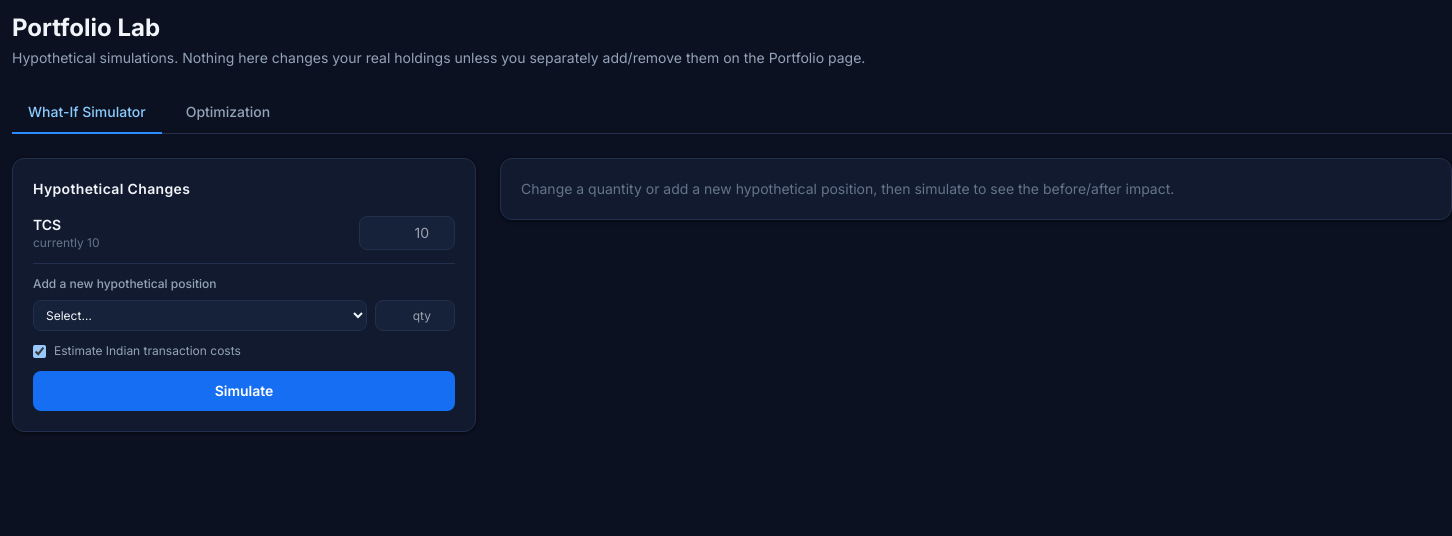
Test case: PortfolioLabPage - What-If Simulator tab › submits a changed quantity and renders the before/after result
expect the text "TCS" is shown: met, box x1=33 y1=216 x2=61 y2=233
Type "15" into the number field with placeholder "10" at (407, 233), box x1=359 y1=216 x2=455 y2=250
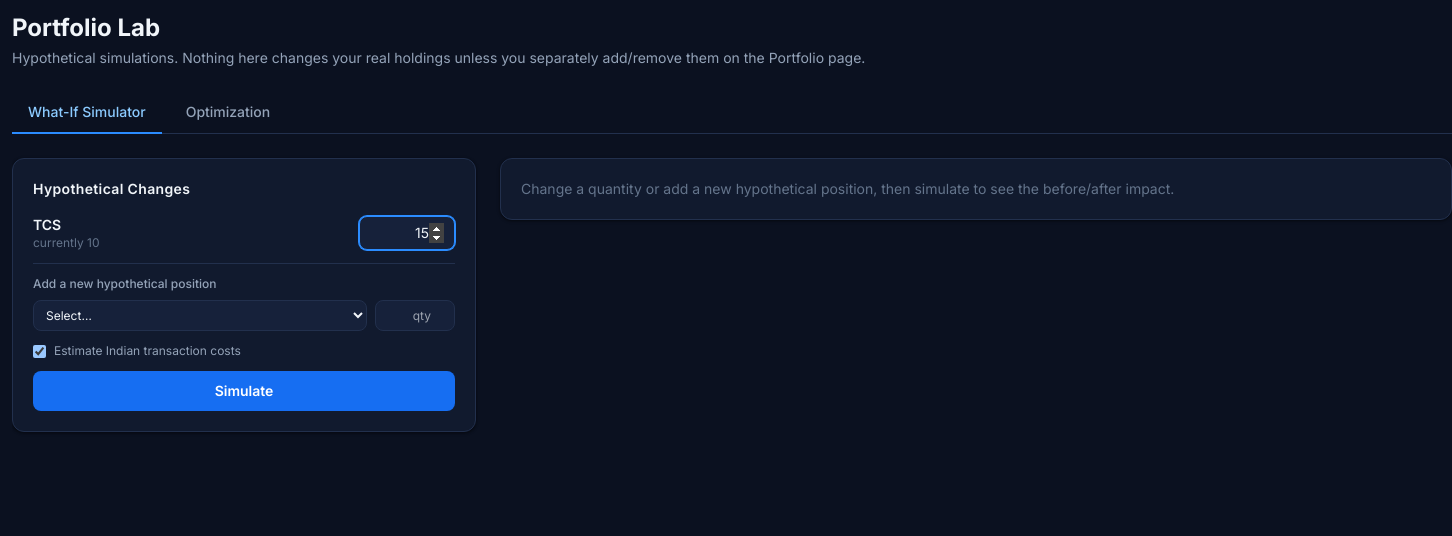
Click the button "Simulate" at (244, 391), box x1=33 y1=371 x2=455 y2=411
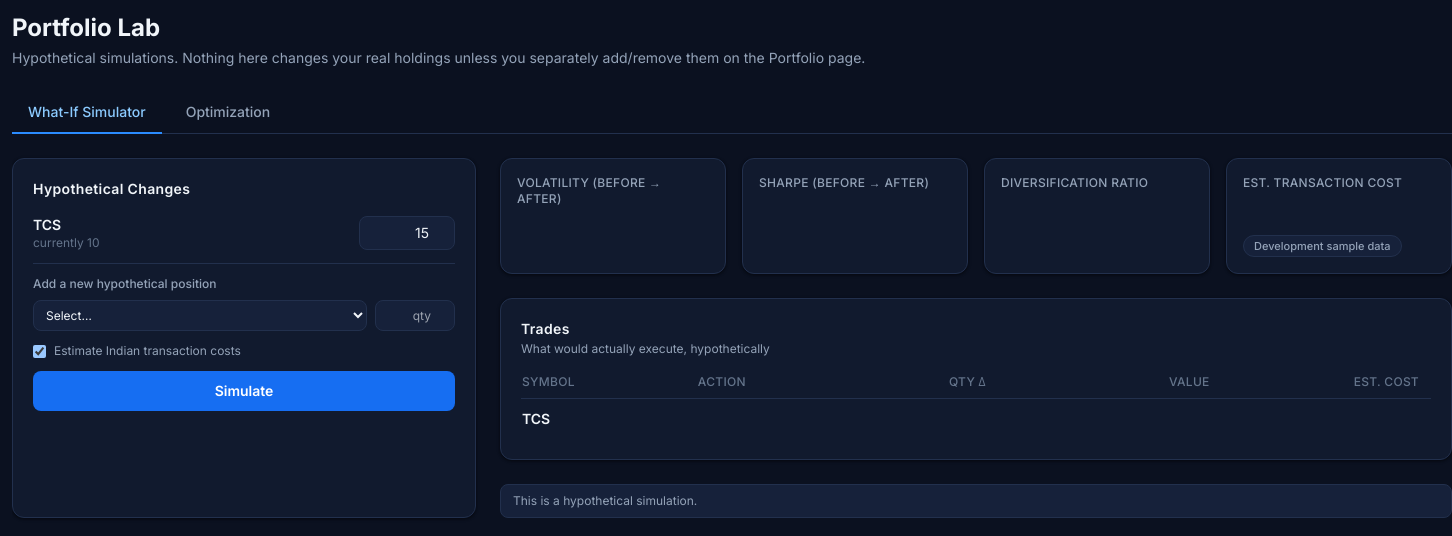
expect the text "This is a hypothetical simulation." is shown: met, box x1=500 y1=484 x2=1451 y2=518
expect the text "BUY" is shown: met, box x1=697 y1=398 x2=860 y2=439
